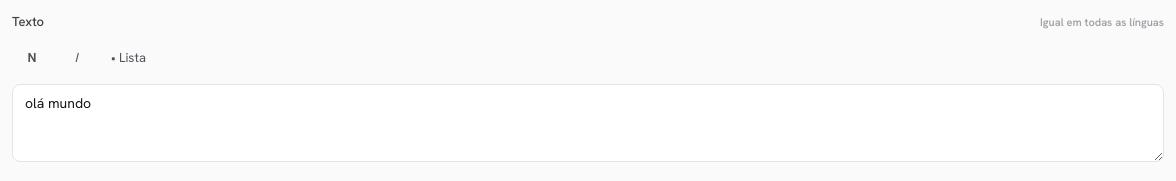
Test: md · barra Negrito · Itálico · Lista › actua na seleção da caixa
The image size is (1176, 181).
Click the button named "Negrito": [32, 58] box top-left (12, 38), bottom-right (52, 78)
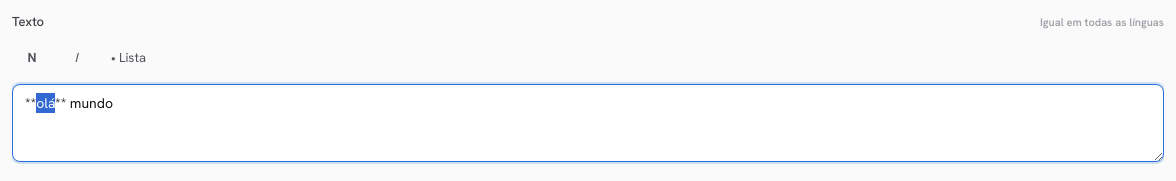
Check: the text box holds "**olá** mundo", box top-left (12, 84), bottom-right (1164, 162)
